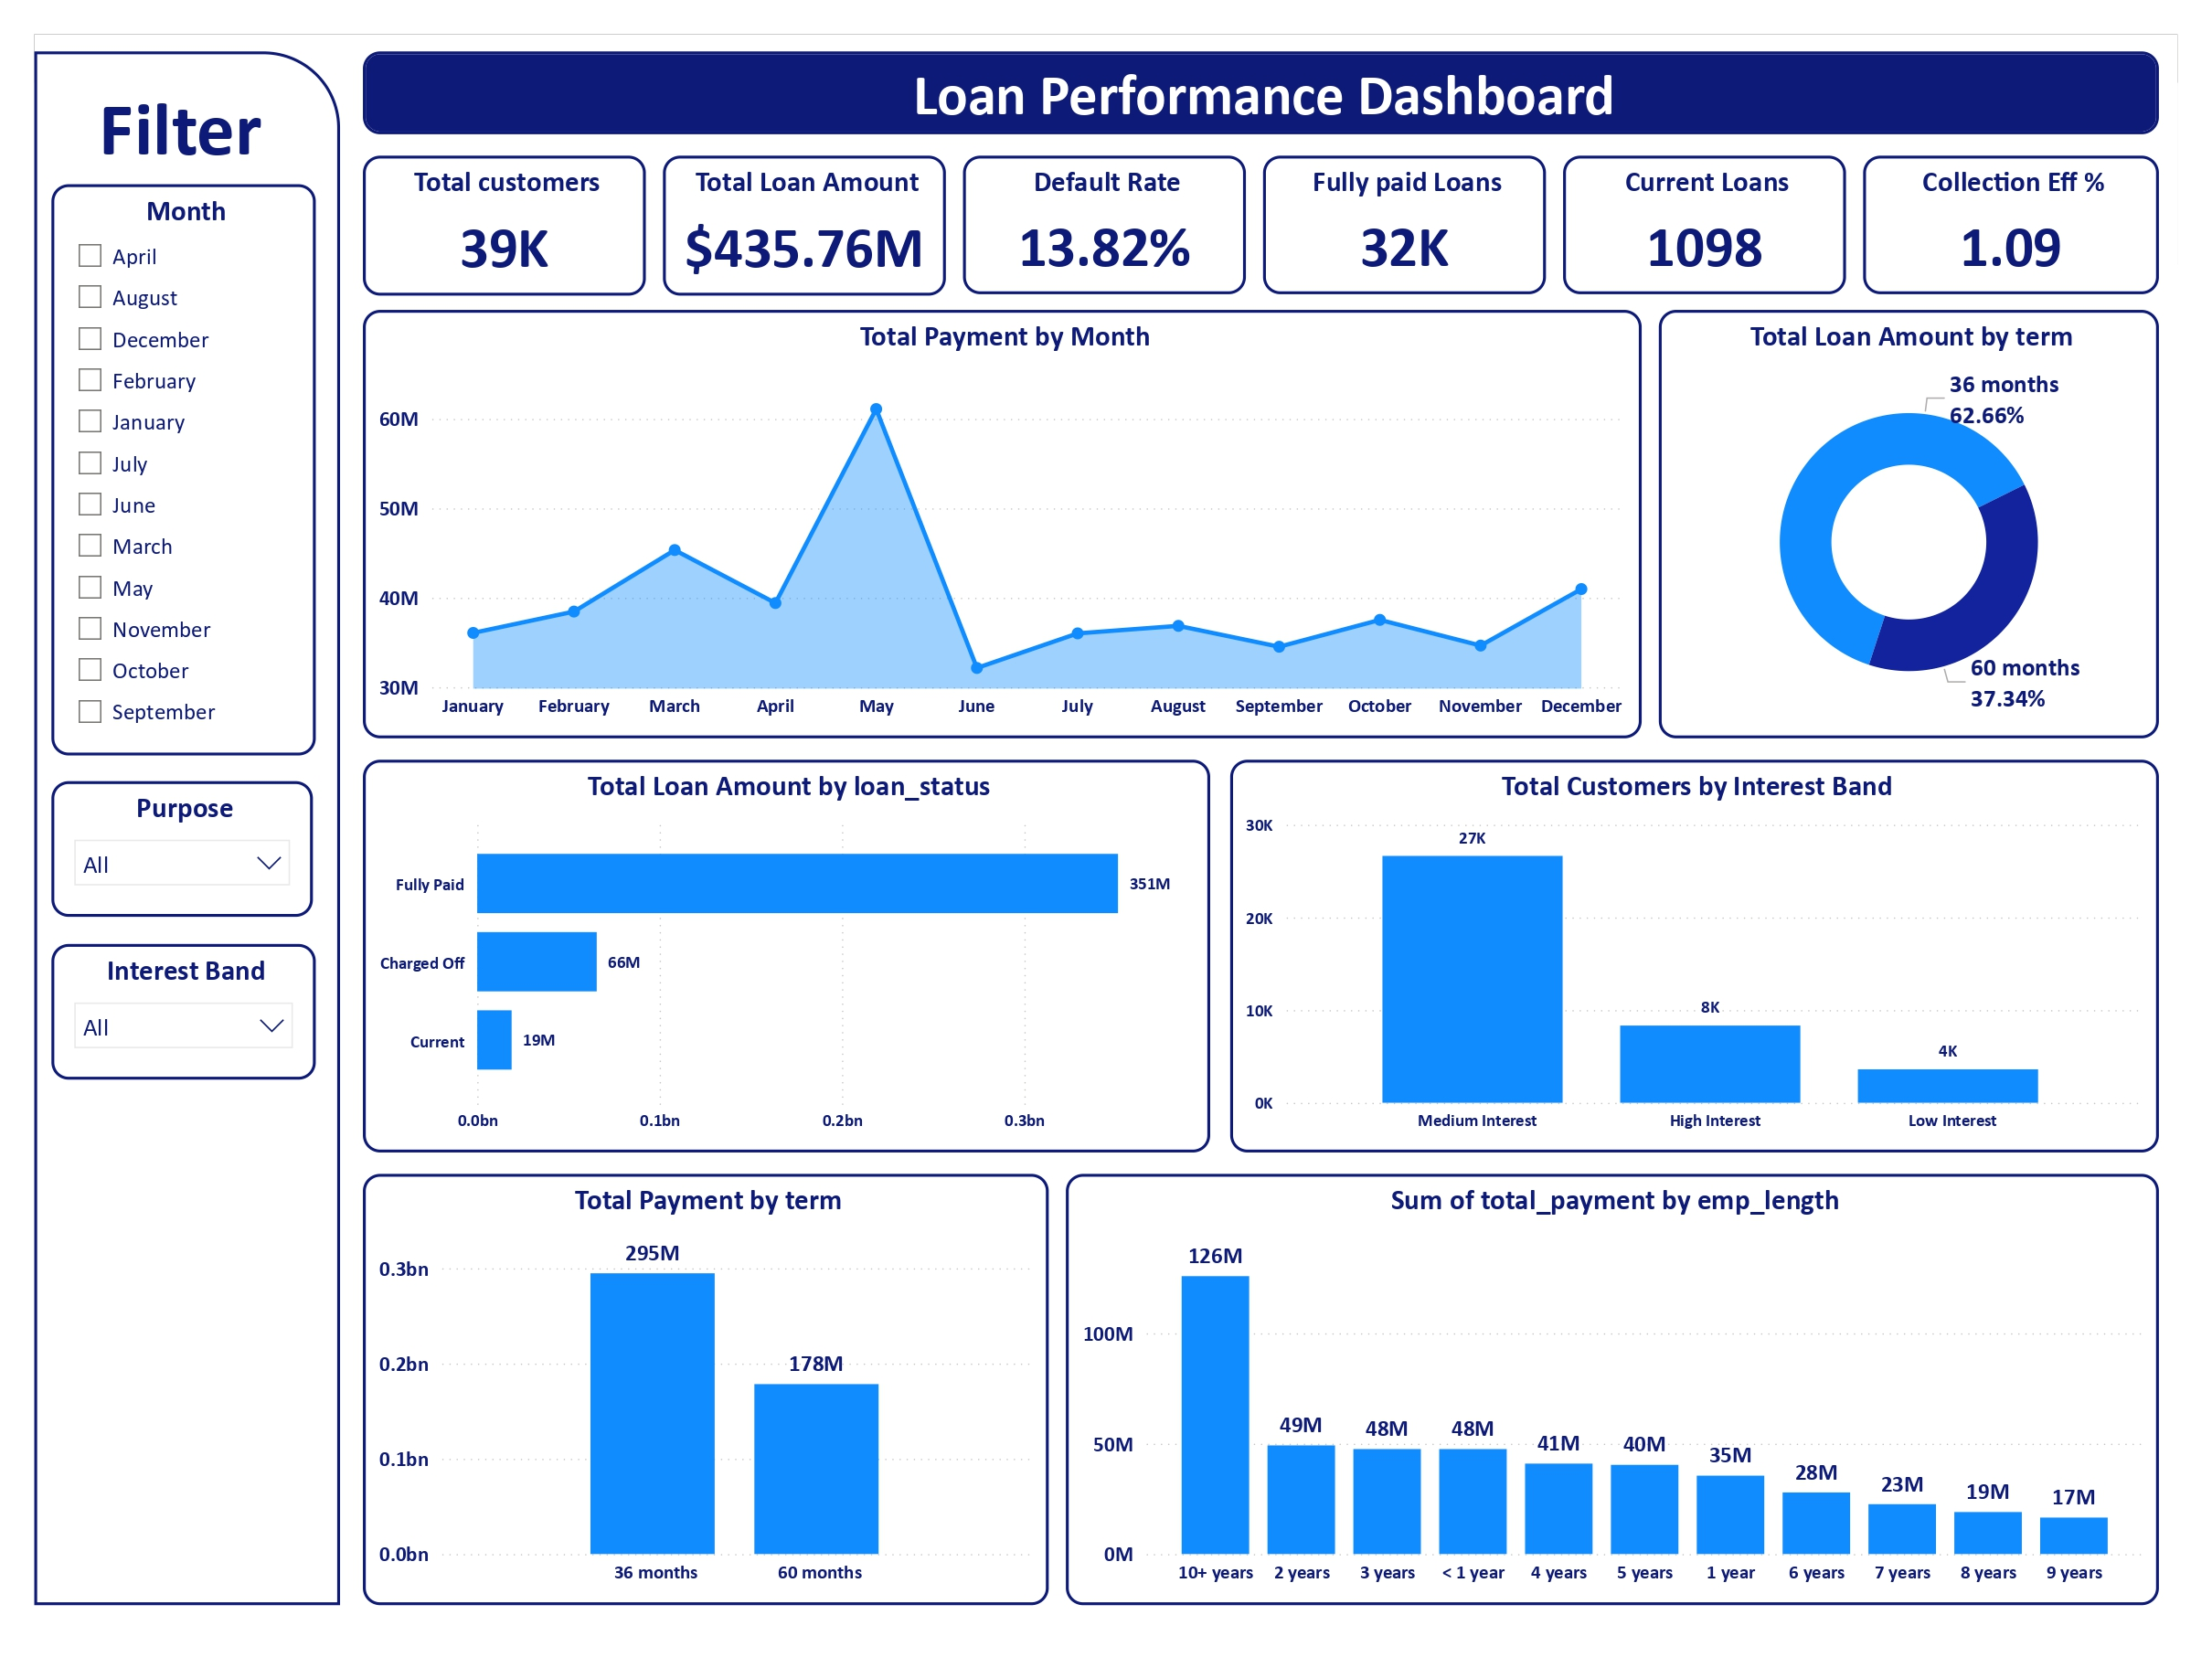

This screenshot's page, from the dashboard's own definition file:
{"tool":"powerbi","page":{"name":"Repayment Insights","canvas":[1500,1120],"ordinal":2},"visuals":[{"type":"card","title":"Total customers","fields":{"Values":["loan.Total Customers"]},"box":[230,85,198.3,98.3],"z":0},{"type":"card","title":"Collection Eff %","fields":{"Values":["loan.Upcoming Payments"]},"box":[1280,85,207,97],"z":1000},{"type":"card","title":"Current Loans","fields":{"Values":["loan.Current Loans"]},"box":[1070,85,198.3,96.7],"z":2000},{"type":"card","title":"Fully paid Loans","fields":{"Values":["loan.Fully Paid Loans"]},"box":[860,85,198.3,96.7],"z":3000},{"type":"card","title":"Default Rate","fields":{"Values":["loan.Default Rate"]},"box":[650,85,198.3,96.7],"z":4000},{"type":"lineChart","fields":{"Y":["loan.Total Payment"],"Category":["loan.last_payment_date.Variation.Date Hierarchy.Month"]},"box":[230,193.3,895,300],"z":5000},{"type":"donutChart","fields":{"Category":["loan.term"],"Y":["loan.Total Loan Amount"]},"box":[1137,193,350,300],"z":6000},{"type":"columnChart","fields":{"Category":["loan.Interest Band"],"Y":["loan.Total Customers"]},"box":[837,508,650,275],"z":7000},{"type":"columnChart","fields":{"Category":["loan.emp_length"],"Y":["Sum(loan.total_payment)"]},"box":[722,798,765,302],"z":8000},{"type":"columnChart","fields":{"Category":["loan.term"],"Y":["loan.Total Payment"]},"box":[230,798.3,480,301.7],"z":9000},{"type":"barChart","fields":{"Y":["loan.Total Loan Amount"],"Category":["loan.loan_status"]},"box":[230,508.3,593.3,275],"z":10000},{"type":"shape","box":[0,12,214,1088],"z":12000},{"type":"textbox","title":"Loan Performance Dashboard","box":[230,11.7,1256.7,58.3],"z":13000},{"type":"textbox","box":[12,28,181,77],"z":14000},{"type":"slicer","title":"Month","fields":{"Values":["loan.Month"]},"box":[11.7,105,185,400],"z":15000},{"type":"slicer","title":"Purpose","fields":{"Values":["loan.purpose"]},"box":[11.7,523.3,183.3,95],"z":16000},{"type":"slicer","title":"Interest Band","fields":{"Values":["loan.Interest Band"]},"box":[11.7,636.7,185,95],"z":17000},{"type":"card","title":"Total Loan Amount","fields":{"Values":["loan.Total Loan Amount"]},"box":[440,85,198.3,98.3],"z":18000}]}

Visuals, with their boxes on the page's 1500x1120 design canvas (x1, y1, x2, y2). These are canvas units, not pixel positions in the 2212x1668 screenshot, which may show the page scaled, cropped or inside an application window:
"Total customers" card: select_region(230, 85, 428, 183)
"Collection Eff %" card: select_region(1280, 85, 1487, 182)
"Current Loans" card: select_region(1070, 85, 1268, 182)
"Fully paid Loans" card: select_region(860, 85, 1058, 182)
"Default Rate" card: select_region(650, 85, 848, 182)
lineChart - loan.Total Payment x loan.last_payment_date.Variation.Date Hierarchy.Month: select_region(230, 193, 1125, 493)
donutChart - loan.term x loan.Total Loan Amount: select_region(1137, 193, 1487, 493)
columnChart - loan.Interest Band x loan.Total Customers: select_region(837, 508, 1487, 783)
columnChart - loan.emp_length x Sum(loan.total_payment): select_region(722, 798, 1487, 1100)
columnChart - loan.term x loan.Total Payment: select_region(230, 798, 710, 1100)
barChart - loan.Total Loan Amount x loan.loan_status: select_region(230, 508, 823, 783)
shape: select_region(0, 12, 214, 1100)
"Loan Performance Dashboard" textbox: select_region(230, 12, 1487, 70)
textbox: select_region(12, 28, 193, 105)
"Month" slicer: select_region(12, 105, 197, 505)
"Purpose" slicer: select_region(12, 523, 195, 618)
"Interest Band" slicer: select_region(12, 637, 197, 732)
"Total Loan Amount" card: select_region(440, 85, 638, 183)
